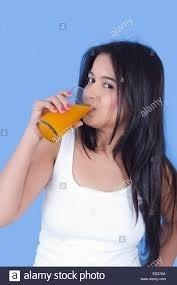Drinking: (34, 50, 143, 137)
